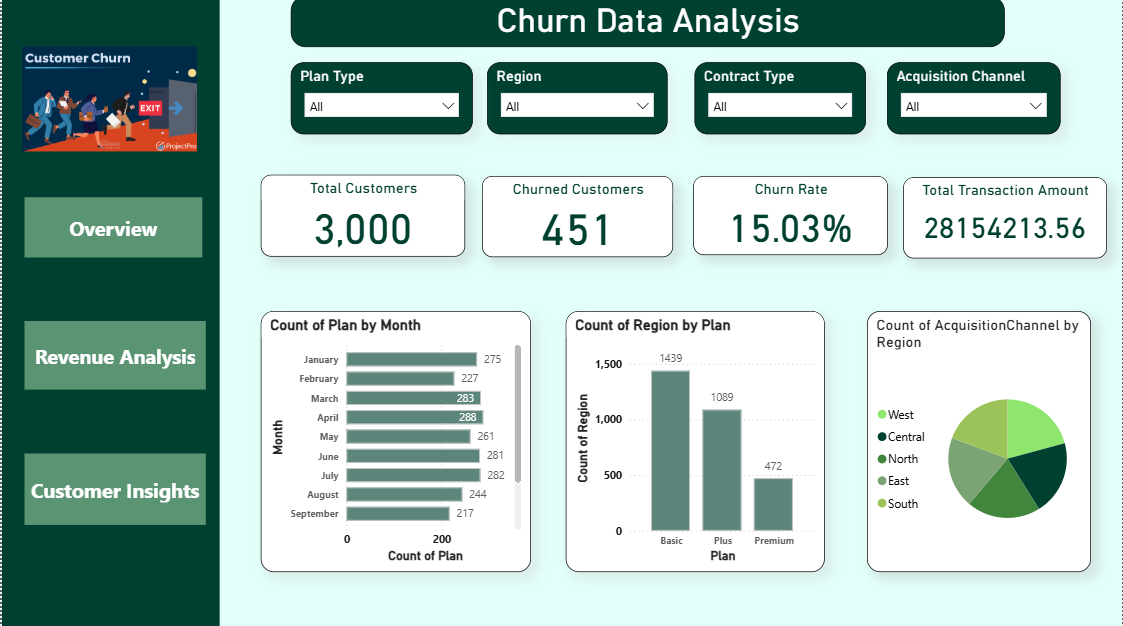

The dashboard page shown, as its layout file describes it:
{"tool":"powerbi","page":{"name":"Overview ","canvas":[1280,720],"ordinal":0},"visuals":[{"type":"textbox","title":"Churn Data Analysis","box":[330,0,816,58],"z":0},{"type":"slicer","title":"Region","fields":{"Values":["DimCustomer.Region"]},"box":[554,76,206,82],"z":1000},{"type":"barChart","fields":{"Category":["DimCustomer.SignupDate.Variation.Date Hierarchy.Month"],"Y":["CountNonNull(DimCustomer.Plan)"]},"box":[295,360,308.8,298.8],"z":2000},{"type":"columnChart","fields":{"Category":["DimCustomer.Plan"],"Y":["CountNonNull(DimCustomer.Region)"]},"box":[643.8,360,296.2,298.8],"z":3000},{"type":"pieChart","fields":{"Category":["DimCustomer.Region"],"Y":["CountNonNull(DimCustomer.AcquisitionChannel)"]},"box":[988.8,360,256.2,298.8],"z":4000},{"type":"slicer","title":"Acquisition Channel","fields":{"Values":["DimCustomer.AcquisitionChannel"]},"box":[1012,76,198,82],"z":5000},{"type":"slicer","title":"Contract Type","fields":{"Values":["DimCustomer.ContractType"]},"box":[792,76,196,82],"z":6000},{"type":"slicer","title":"Plan Type","fields":{"Values":["DimCustomer.Plan"]},"box":[330,76,208,82],"z":7000},{"type":"card","title":"Churned Customers","fields":{"Values":["Count(DimCustomer.CustomerID)"]},"box":[548.8,205,218.8,92.5],"z":8000},{"type":"card","title":"Total Customers","fields":{"Values":["CountNonNull(DimCustomer.CustomerID)"]},"box":[295,203.8,233.8,93.8],"z":9000},{"type":"shape","box":[0,0,248.8,720],"z":10000},{"type":"actionButton","box":[25.7,230,202.9,68.6],"z":11000},{"type":"actionButton","box":[25.7,371.4,207.1,78.6],"z":12000},{"type":"actionButton","box":[25.7,522.9,207.1,81.4],"z":13000},{"type":"card","title":"Churn Rate ","fields":{"Values":["FactChurnSnapshot.Churn Rate"]},"box":[790,205,222.5,90],"z":14000},{"type":"card","title":"Total Transaction Amount","fields":{"Values":["FactTransactions.Total Transaction Amount"]},"box":[1030,207.5,232.5,92.5],"z":15000},{"type":"image","box":[15,52.5,215,130],"z":16000}]}

Visuals, with their boxes in screenshot pixels (x1, y1, x2, y2), scaled from the page's 1280x720 canvas onto the 1123x626 screenshot:
"Churn Data Analysis" textbox: [290,0,1005,50]
"Region" slicer: [486,66,667,137]
barChart - DimCustomer.SignupDate.Variation.Date Hierarchy.Month x CountNonNull(DimCustomer.Plan): [259,313,530,573]
columnChart - DimCustomer.Plan x CountNonNull(DimCustomer.Region): [565,313,825,573]
pieChart - DimCustomer.Region x CountNonNull(DimCustomer.AcquisitionChannel): [868,313,1092,573]
"Acquisition Channel" slicer: [888,66,1062,137]
"Contract Type" slicer: [695,66,867,137]
"Plan Type" slicer: [290,66,472,137]
"Churned Customers" card: [481,178,673,259]
"Total Customers" card: [259,177,464,259]
shape: [0,0,218,625]
actionButton: [23,200,201,260]
actionButton: [23,323,204,391]
actionButton: [23,455,204,525]
"Churn Rate " card: [693,178,888,256]
"Total Transaction Amount" card: [904,180,1108,261]
image: [13,46,202,159]
